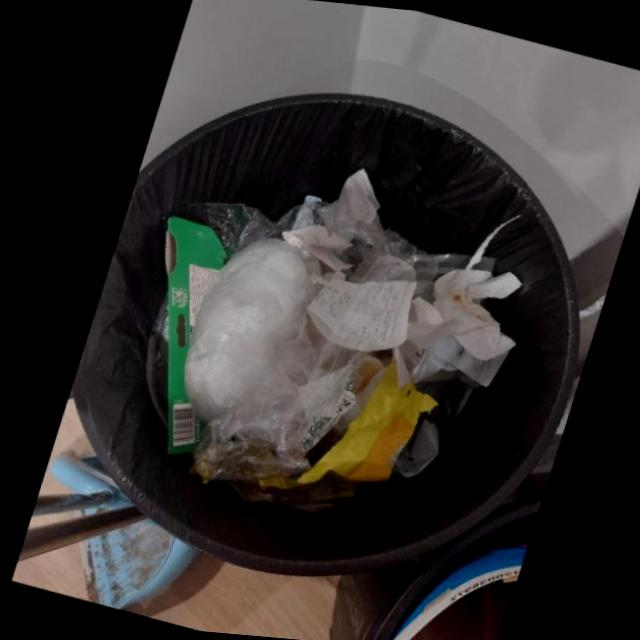bao_bi_thuc_pham: (294, 360, 435, 484)
carton: (159, 216, 221, 454)
giay: (389, 267, 517, 387), (303, 277, 412, 351), (311, 167, 379, 246), (277, 224, 349, 270)
tui_ni_long: (180, 237, 308, 481)
